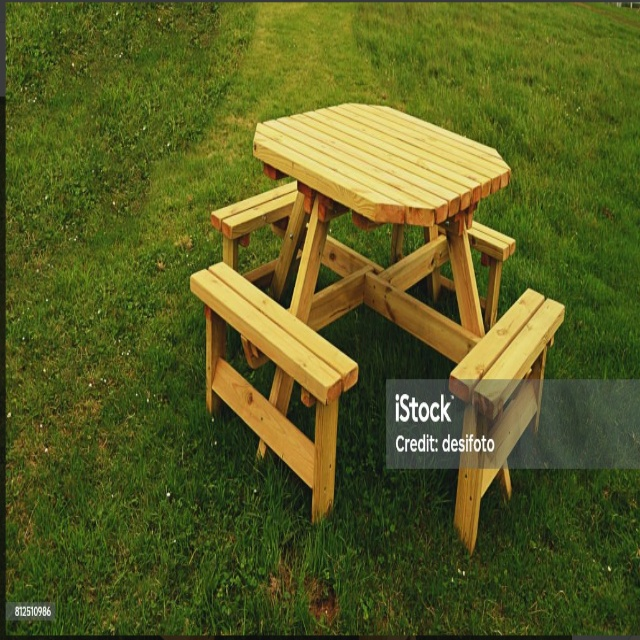obstacle: (187, 97, 562, 535), (252, 94, 480, 375), (187, 256, 359, 521), (447, 285, 564, 545)
